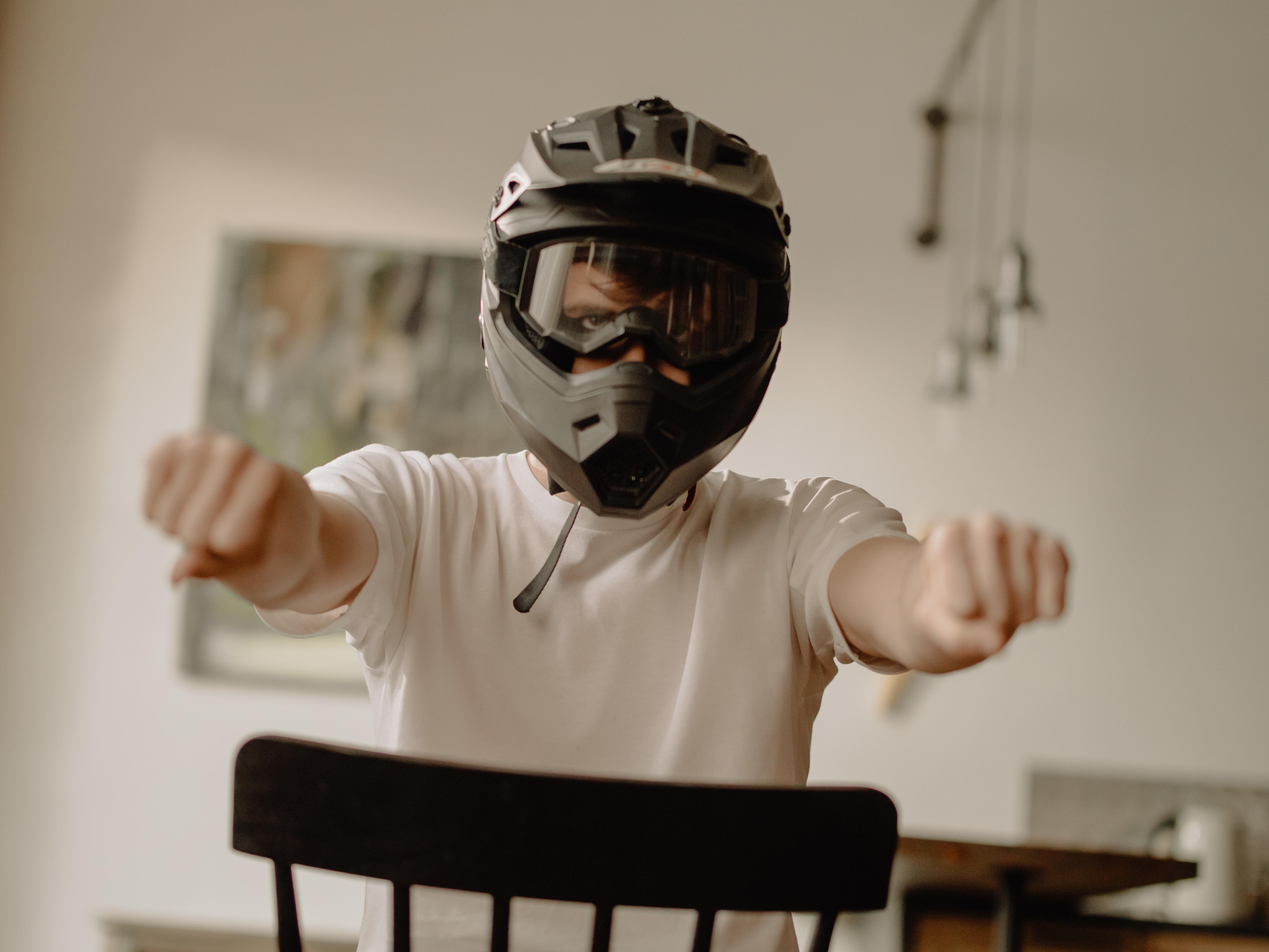helmet: (433, 78, 856, 560)
